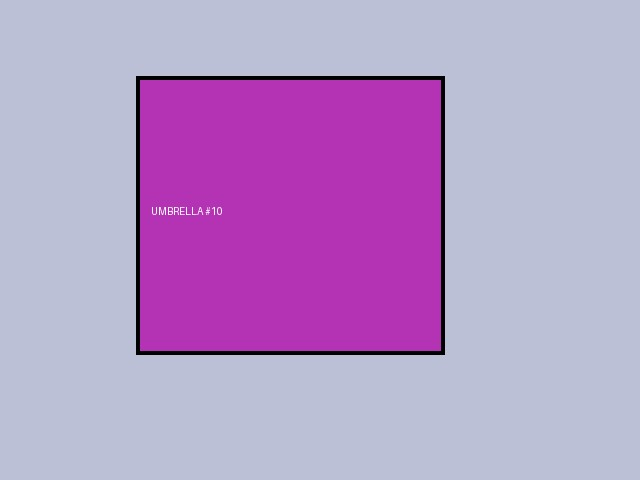umbrella: (136, 76, 444, 354)
